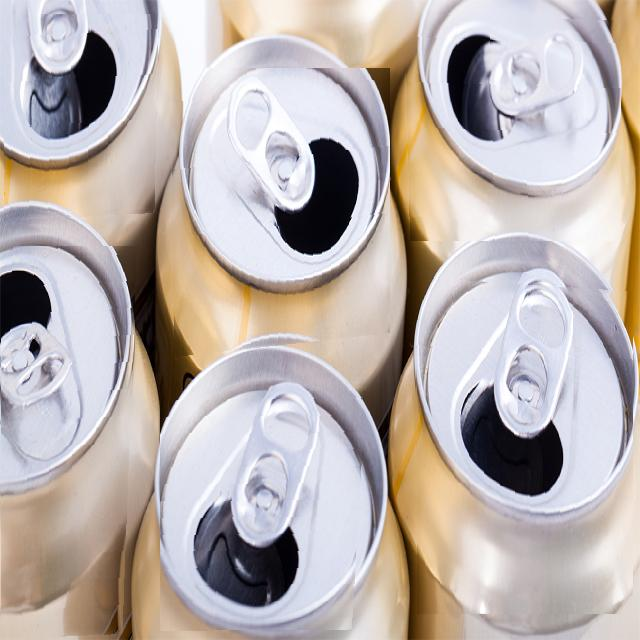Cans: (415, 277, 633, 614), (170, 68, 390, 357), (1, 246, 137, 640), (160, 391, 366, 631), (405, 14, 621, 241), (4, 14, 159, 221)
